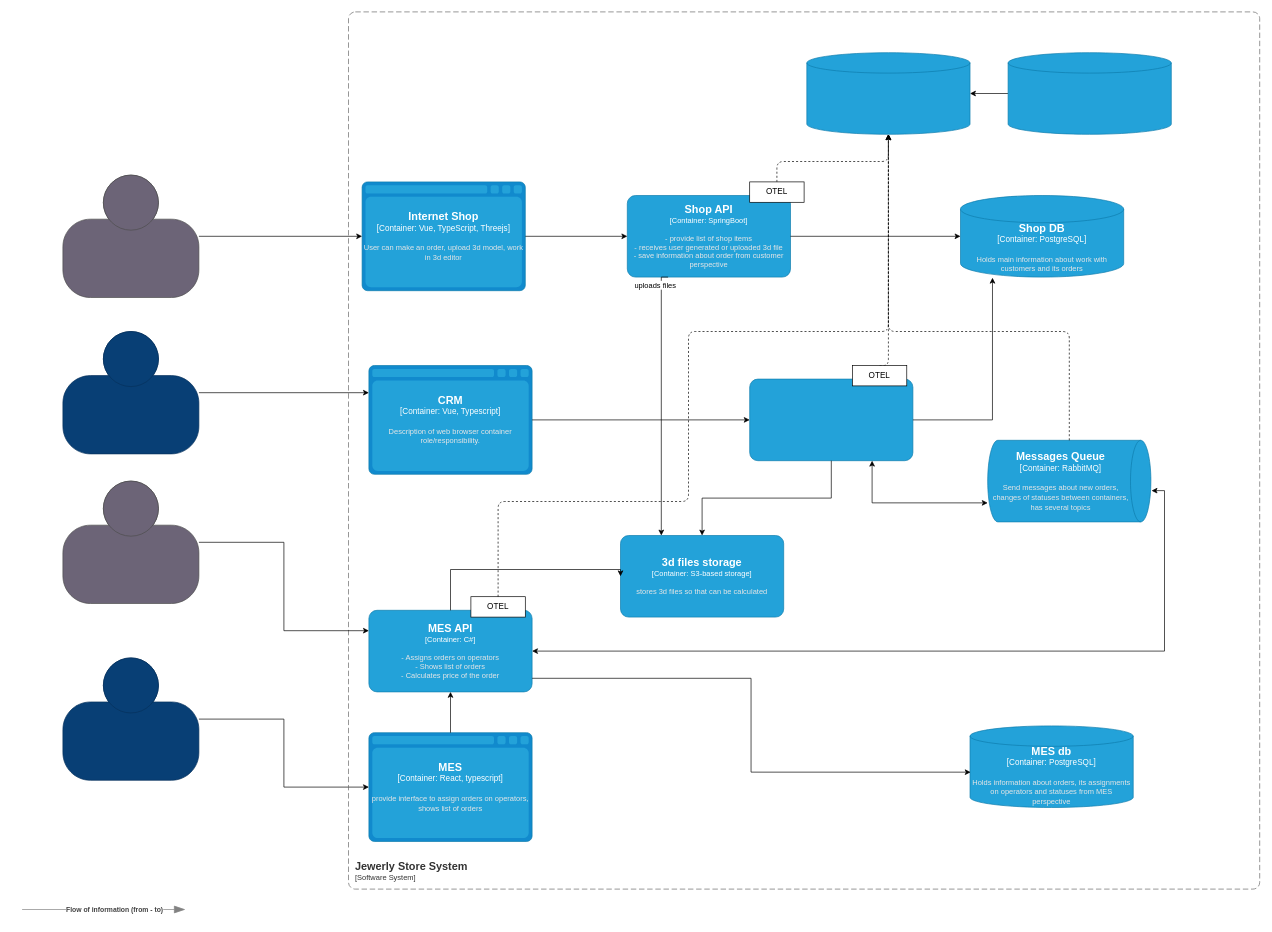
The diagram is 1272 pixels wide and 932 high, and some of its shapes have lost their labels. The centre of each missing label's shape, as x and y in pixels:
API user [Person] Description of external person.: pixel 130 542
CRM API [Container: SpringBoot] Description of container role/responsibility.: pixel 831 419
Customer [Person] Description of external person.: pixel 130 236
Operator [Person] Takes order in work, manufactures jewerly: pixel 130 718
Seller [Person] Operates with order, confirms manufacturing for the user: pixel 130 392
Трейсинг [Container: Jaeger] Обработка и хранение данных для трейсинга: pixel 888 93
Трейсинг-UI [Container: Jaeger-UI] Визуализация данных трейсинга: pixel 1089 93
